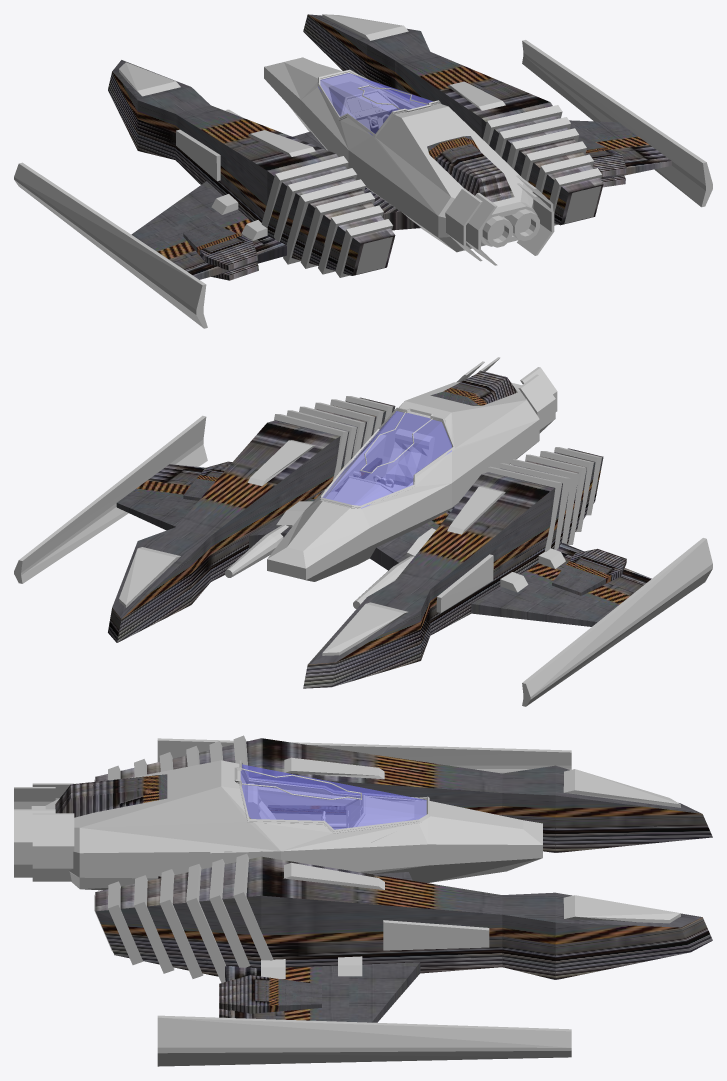
The model's file is sship2.obj.
3 views of the same model, one above another, from view 1: azimuth 30°, elevation 25°; view 2: azimuth 150°, elevation 25°; view 3: azimuth 270°, elevation 25° (orthographic). The views are drawn at different scales.
Visible parts, largest first — view 1: angar, panels, ashphalt, glass, glow, 01_-_Default; view 2: angar, panels, ashphalt, glass, blackleaher, 01_-_Default; view 3: angar, panels, ashphalt, glass, 01_-_Default, blackleaher.
Part boxes in pixels (left/top/right/bottom): angar: left=108, top=14, right=671, bottom=280; panels: left=14, top=40, right=712, bottom=328; ashphalt: left=119, top=14, right=601, bottom=277; glass: left=318, top=73, right=432, bottom=135; glow: left=352, top=108, right=601, bottom=274; 01_-_Default: left=317, top=69, right=441, bottom=136; angar: left=108, top=371, right=651, bottom=688; panels: left=14, top=382, right=712, bottom=706; ashphalt: left=119, top=357, right=601, bottom=655; glass: left=322, top=411, right=451, bottom=508; blackleaher: left=386, top=429, right=434, bottom=491; 01_-_Default: left=320, top=407, right=454, bottom=507; angar: left=55, top=738, right=712, bottom=1022; panels: left=45, top=738, right=571, bottom=1066; ashphalt: left=14, top=735, right=680, bottom=982; glass: left=240, top=764, right=426, bottom=829; 01_-_Default: left=234, top=760, right=429, bottom=831; blackleaher: left=244, top=783, right=275, bottom=819.
Bounding box in the file's own units: 121 × 30.37 × 125.
